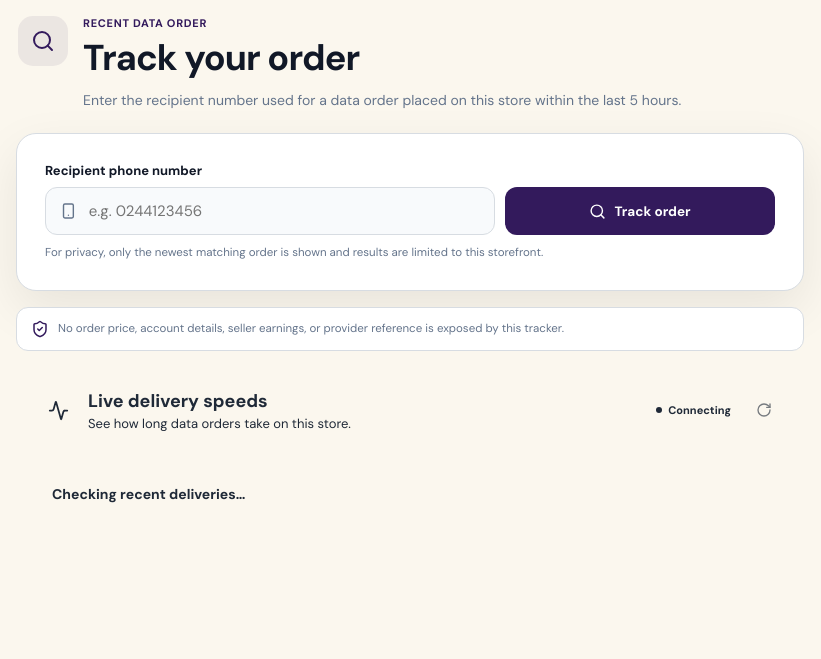
Test case: TrackDataOrder › validates the phone number before making a request
In the field labelled "Recipient phone number": (283, 211) [87, 200, 480, 222], type "1234"
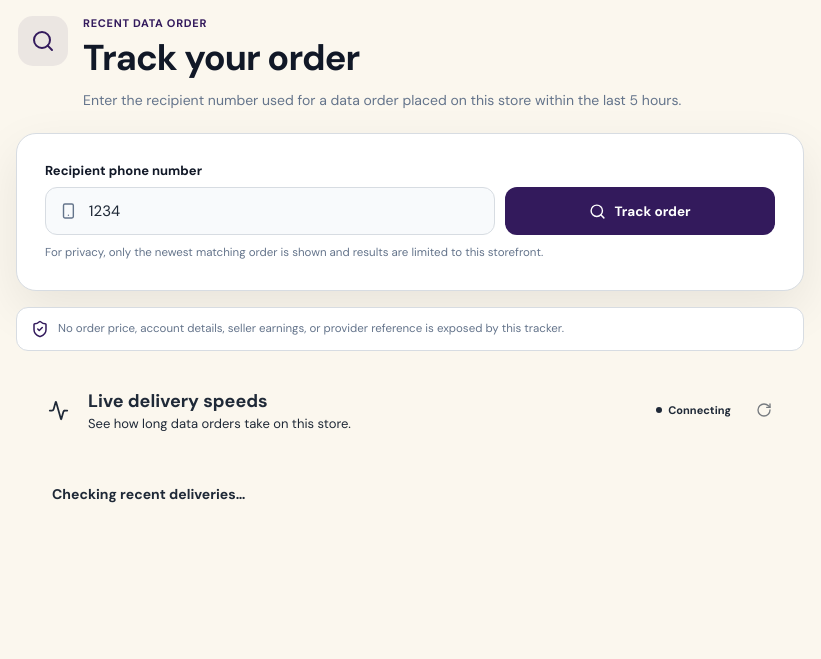
Click the button "Track order": (640, 211) [505, 187, 775, 235]
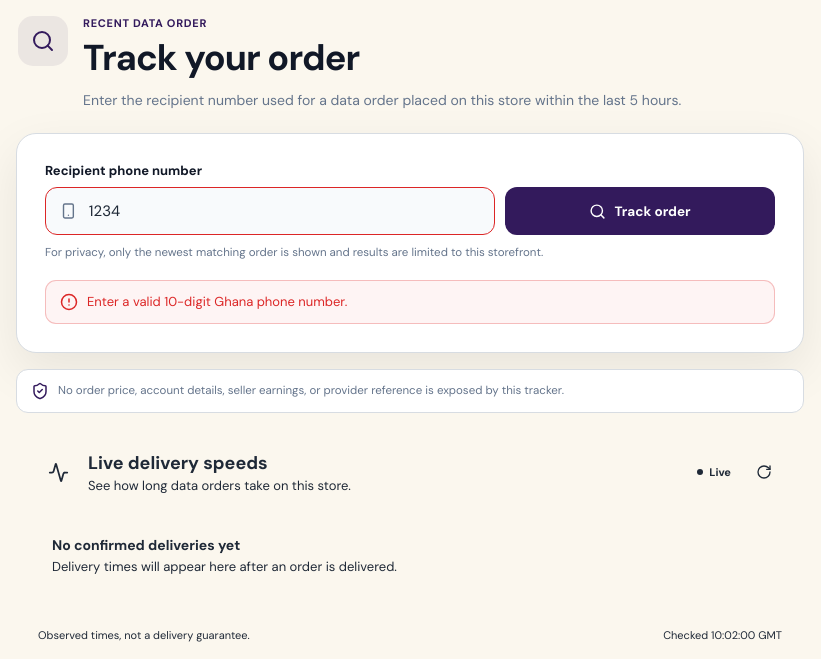
Now the text "Enter a valid 10-digit Ghana phone number." is shown, box [87, 293, 347, 310]
Now the text "No confirmed deliveries yet" is shown, box [52, 536, 240, 554]
